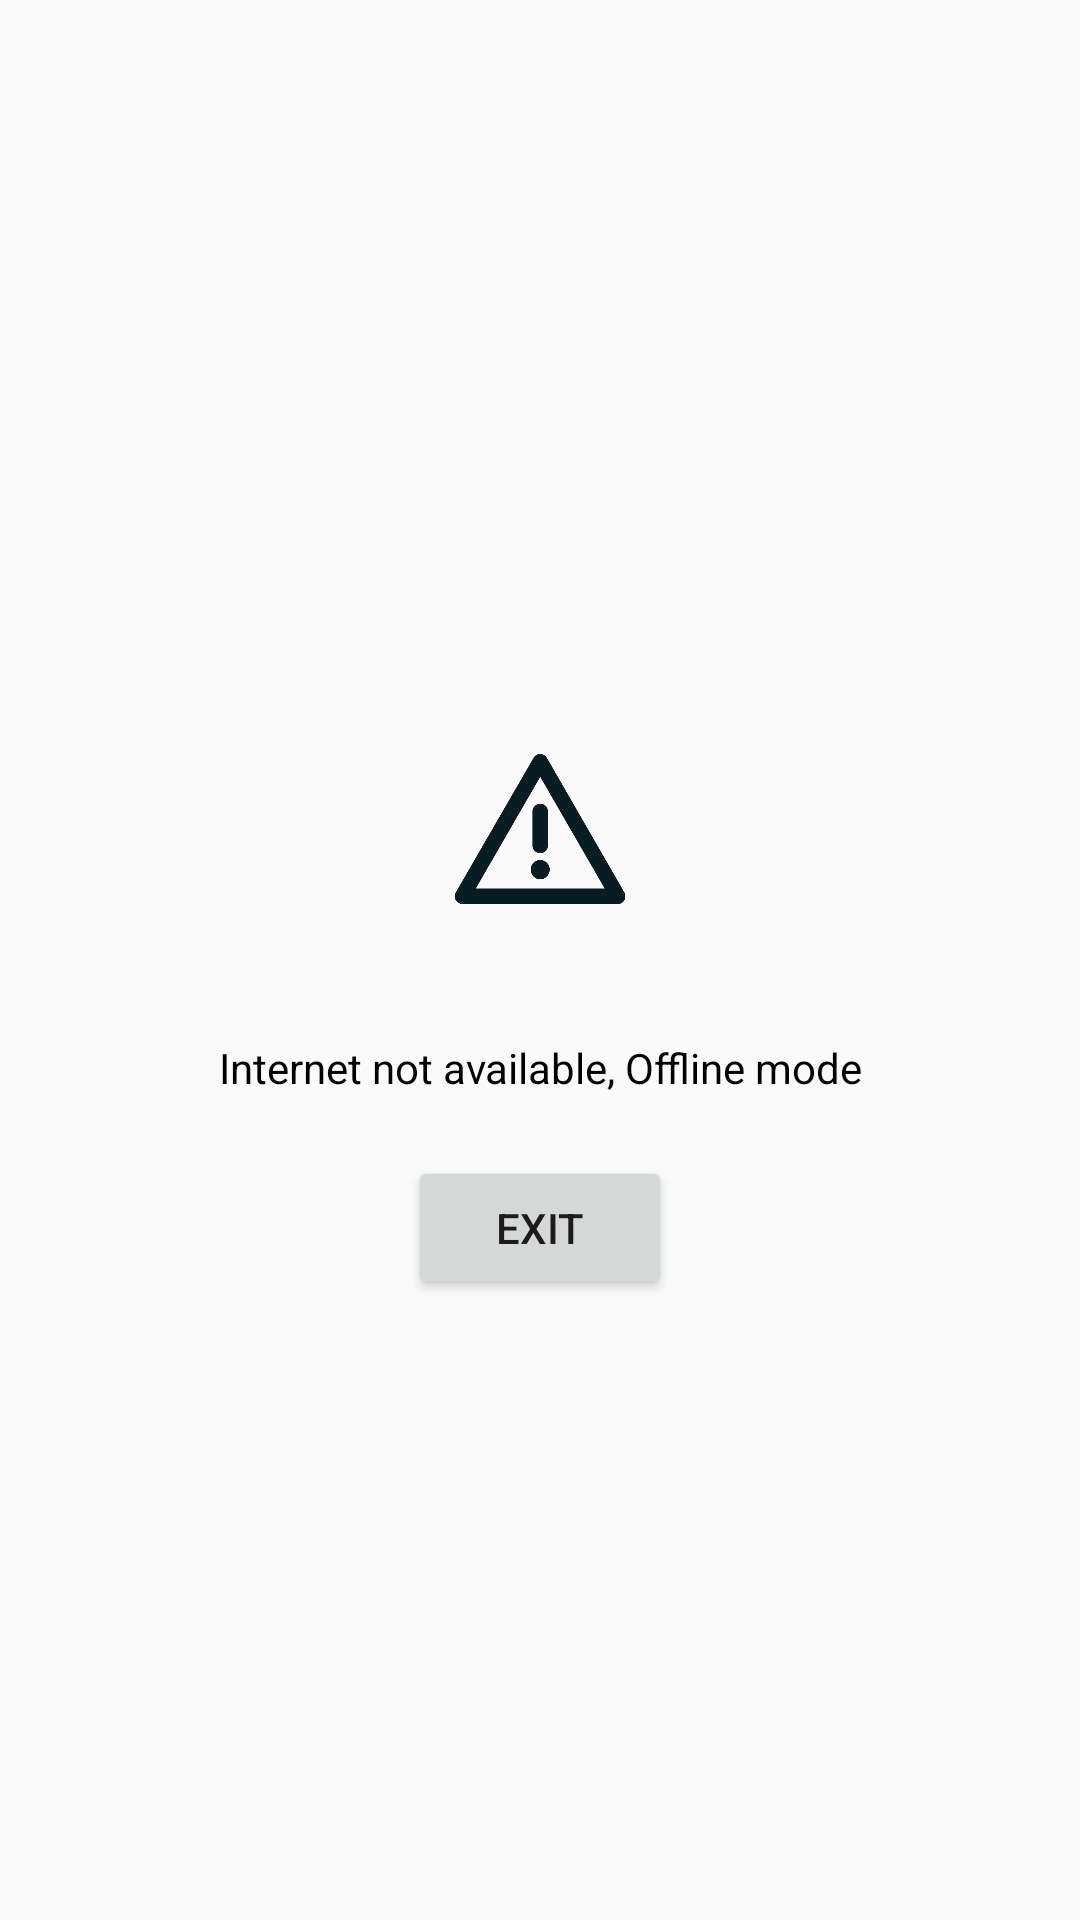

Screen size 1080×1920. Icon name, then its center in pixels as (x=x, y=y):
warning: (x=540, y=829)
